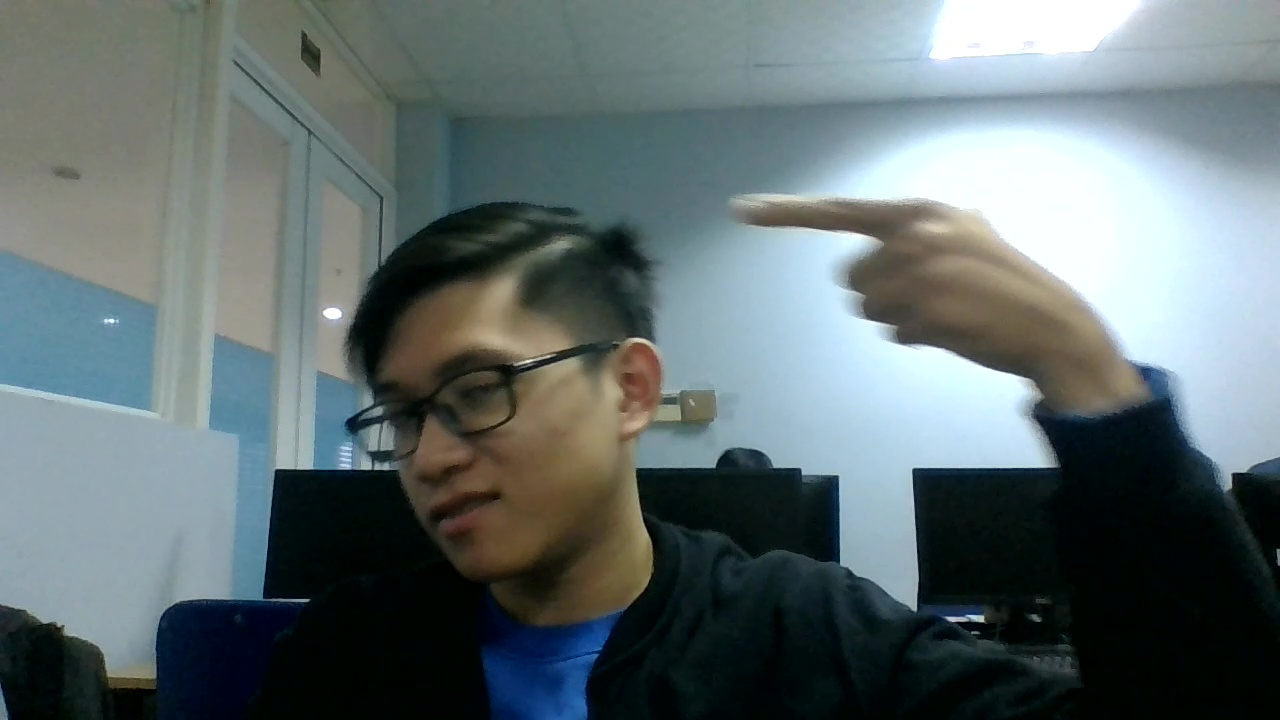right: (722, 182, 1094, 379)
